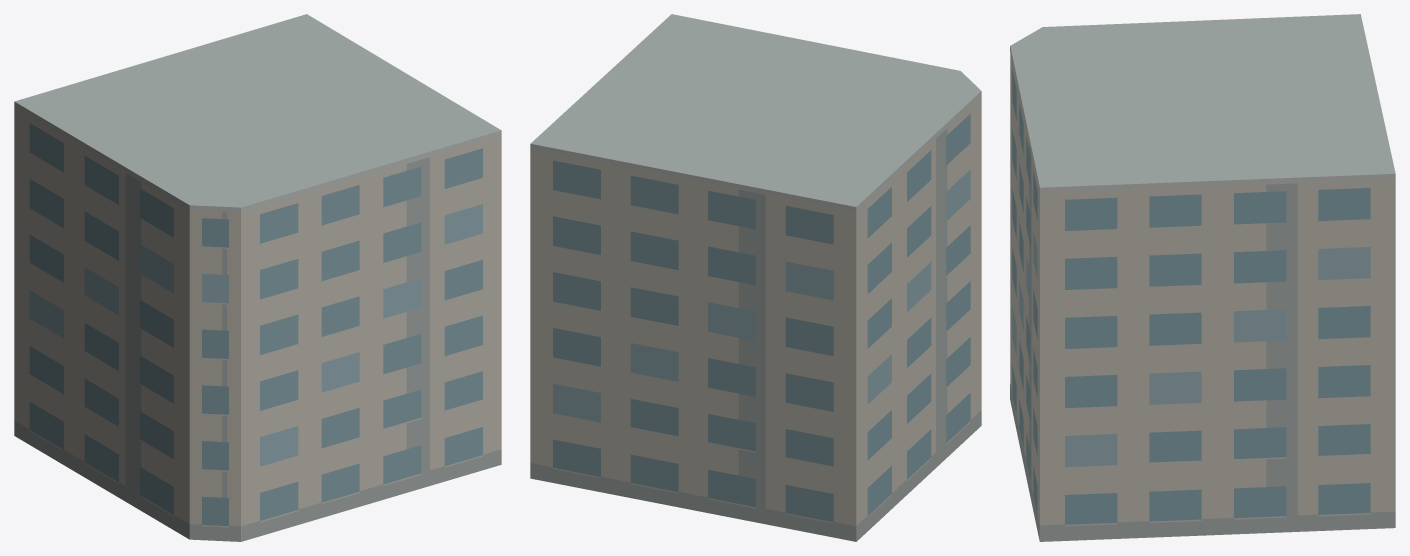
The model's file is survey-upis-32739607.glb.
3 views of the same model, side by side, from view 1: azimuth 30°, elevation 25°; view 2: azimuth 150°, elevation 25°; view 3: azimuth 270°, elevation 25° (orthographic). The views are drawn at different scales.
Visible parts, largest first — view 1: survey-upis-32739607.tmp; view 2: survey-upis-32739607.tmp; view 3: survey-upis-32739607.tmp.
Part boxes in pixels (x1,y1,x2,y2): survey-upis-32739607.tmp: (14, 14, 501, 541); survey-upis-32739607.tmp: (530, 14, 981, 541); survey-upis-32739607.tmp: (1010, 14, 1395, 541).
Size of the model in its own units: 15.68 by 14.9 by 14.71.
